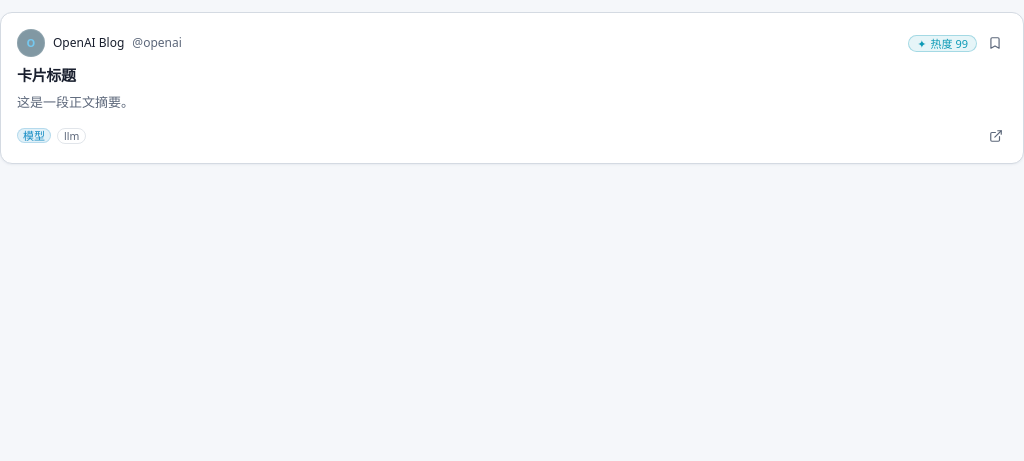
Test case: ItemCard navigation › navigates to the detail page when the card title is clicked
Click the link "卡片标题".
click(46, 75)  # box [17,65,76,86]
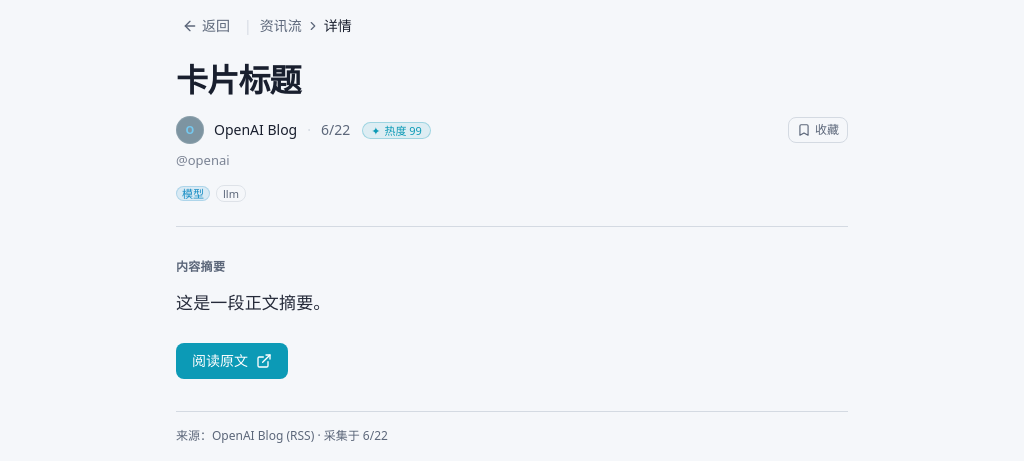
Check: the element with test id "item-detail" is shown, box [176,60,848,444]
